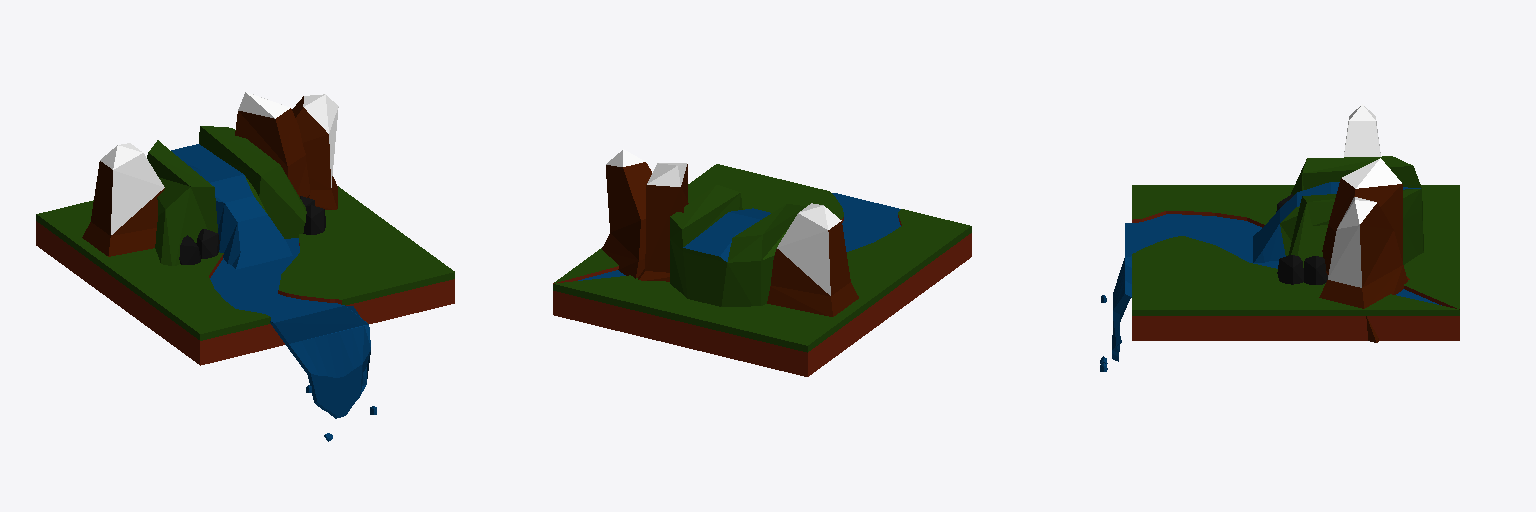
Rendered from Waterfall_1228.obj.
3 views of the same model, side by side, from view 1: azimuth 30°, elevation 25°; view 2: azimuth 150°, elevation 25°; view 3: azimuth 270°, elevation 25° (orthographic).
Parts seen in each view (by area): view 1: Box001, Box002, Pyramid001, Pyramid002, Pyramid003, GeoSphere001, GeoSphere003; view 2: Box001, Box002, Pyramid001, Pyramid003, Pyramid002; view 3: Box001, Box002, Pyramid003, Pyramid002, Pyramid001, GeoSphere001, GeoSphere002.
Part boxes in pixels (left/top/right/bottom): Box001: left=36, top=186, right=454, bottom=418; Box002: left=147, top=126, right=306, bottom=269; Pyramid001: left=82, top=143, right=164, bottom=256; Pyramid002: left=235, top=92, right=310, bottom=197; Pyramid003: left=292, top=94, right=338, bottom=209; GeoSphere001: left=303, top=205, right=325, bottom=234; GeoSphere003: left=196, top=229, right=219, bottom=258; Box001: left=553, top=164, right=971, bottom=376; Box002: left=670, top=185, right=806, bottom=306; Pyramid001: left=767, top=203, right=858, bottom=316; Pyramid003: left=602, top=149, right=651, bottom=278; Pyramid002: left=638, top=163, right=688, bottom=281; Box001: left=1112, top=185, right=1459, bottom=361; Box002: left=1253, top=156, right=1423, bottom=267; Pyramid003: left=1319, top=197, right=1407, bottom=342; Pyramid002: left=1322, top=158, right=1409, bottom=279; Pyramid001: left=1344, top=104, right=1380, bottom=156; GeoSphere001: left=1277, top=255, right=1303, bottom=284; GeoSphere002: left=1304, top=256, right=1327, bottom=284.
Size of the model in its own units: 121 by 104 by 145.